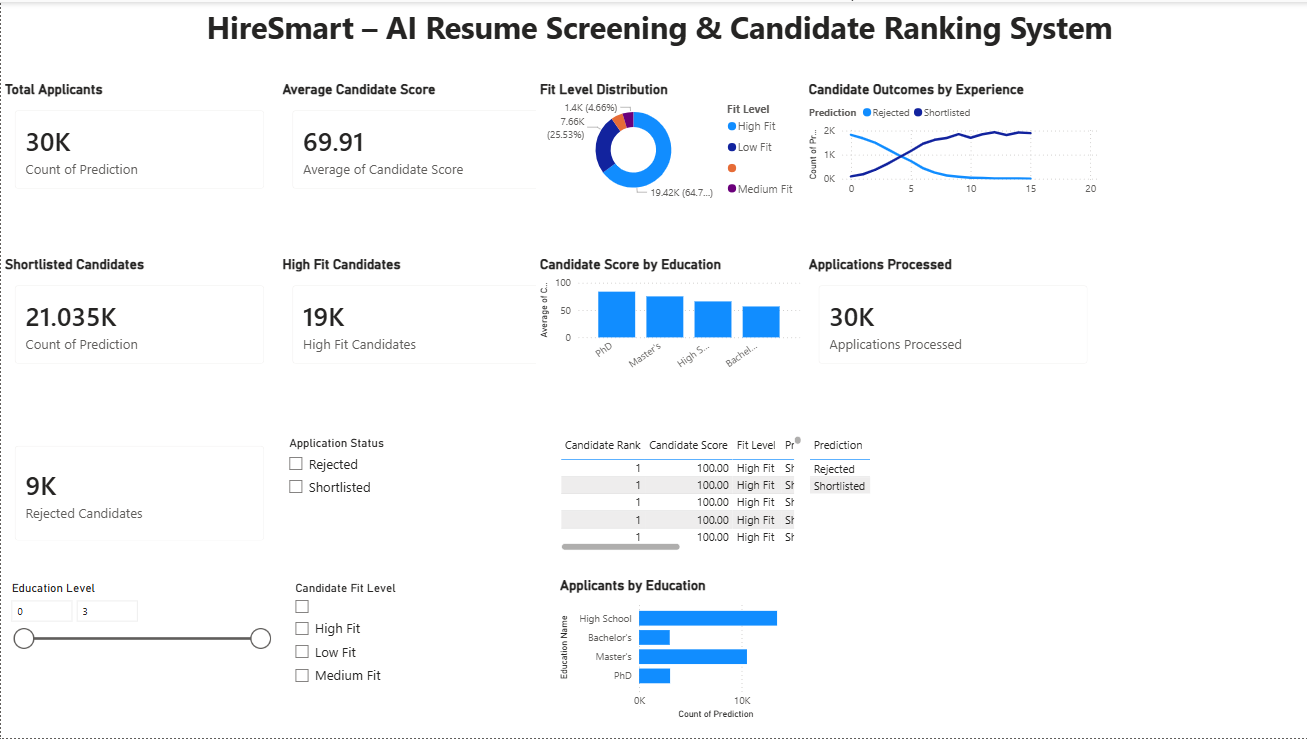

Layout of this report page (visuals, bound fields, positions):
{"tool":"powerbi","page":{"name":"Page 1","canvas":[1600,900],"ordinal":0},"visuals":[{"type":"textbox","box":[11.1,0,1588.9,63],"z":0},{"type":"cardVisual","title":"Total Applicants","fields":{"Data":["CountNonNull(hiresmart_final.Prediction)"]},"box":[0,96.4,339.3,150],"z":1000},{"type":"cardVisual","title":"Shortlisted Candidates","fields":{"Data":["CountNonNull(hiresmart_final.Prediction)"]},"box":[0,311,339,150],"z":2000},{"type":"cardVisual","title":"High Fit Candidates","fields":{"Data":["hiresmart_final.High Fit Candidates"]},"box":[339.3,310.7,339.3,150],"z":3000},{"type":"cardVisual","title":"Average Candidate Score","fields":{"Data":["Avg(hiresmart_final.Candidate Score)"]},"box":[339.3,96.4,339.3,150],"z":4000},{"type":"slicer","fields":{"Values":["hiresmart_final.education_level"]},"box":[0,703,339,150],"z":5000},{"type":"slicer","fields":{"Values":["hiresmart_final.Prediction"]},"box":[339,526,339,150],"z":6000},{"type":"slicer","fields":{"Values":["hiresmart_final.Fit Level"]},"box":[346.4,703.6,332.1,150],"z":7000},{"type":"donutChart","title":"Fit Level Distribution","fields":{"Category":["hiresmart_final.Fit Level"],"Y":["CountNonNull(hiresmart_final.Prediction)"]},"box":[653.6,96.4,328.6,150],"z":8000},{"type":"tableEx","fields":{"Values":["hiresmart_final.Candidate Rank","hiresmart_final.Candidate Score","hiresmart_final.Fit Level","hiresmart_final.Prediction","hiresmart_final.years_experience","hiresmart_final.education_level"]},"box":[678,526,305,150],"z":9000},{"type":"clusteredBarChart","title":"Applicants by Education","fields":{"Y":["CountNonNull(hiresmart_final.Prediction)"],"Category":["hiresmart_final.Education Name"]},"box":[679.2,703.2,304.8,179.1],"z":10000},{"type":"clusteredColumnChart","title":"Candidate Score by Education","fields":{"Y":["Avg(hiresmart_final.Candidate Score)"],"Category":["hiresmart_final.Education Name"]},"box":[653.6,310.7,328.6,150],"z":11000},{"type":"lineChart","title":"Candidate Outcomes by Experience","fields":{"Category":["hiresmart_final.years_experience"],"Y":["CountNonNull(hiresmart_final.Prediction)"],"Series":["hiresmart_final.Prediction"]},"box":[982.1,96.4,364.3,150],"z":12000},{"type":"cardVisual","fields":{"Data":["hiresmart_final.Rejected Candidates"]},"box":[0,526,339,150],"z":13000},{"type":"cardVisual","title":"Applications Processed","fields":{"Data":["hiresmart_final.Test Count"]},"box":[983,311,363,150],"z":14000},{"type":"tableEx","fields":{"Values":["hiresmart_final.Prediction"]},"box":[983,526,363,150],"z":15000},{"type":"textbox","box":[1346,96,254,150],"z":15001}]}

Visuals, with their boxes in screenshot pixels (x1, y1, x2, y2), scaled from the page's 1600x900 canvas onto the 1307x739 screenshot:
textbox: <bbox>9, 0, 1306, 52</bbox>
"Total Applicants" cardVisual: <bbox>0, 79, 277, 202</bbox>
"Shortlisted Candidates" cardVisual: <bbox>0, 255, 277, 379</bbox>
"High Fit Candidates" cardVisual: <bbox>277, 255, 554, 378</bbox>
"Average Candidate Score" cardVisual: <bbox>277, 79, 554, 202</bbox>
slicer - hiresmart_final.education_level: <bbox>0, 577, 277, 700</bbox>
slicer - hiresmart_final.Prediction: <bbox>277, 432, 554, 555</bbox>
slicer - hiresmart_final.Fit Level: <bbox>283, 578, 554, 701</bbox>
"Fit Level Distribution" donutChart: <bbox>534, 79, 802, 202</bbox>
tableEx - hiresmart_final.Candidate Rank x hiresmart_final.Candidate Score: <bbox>554, 432, 803, 555</bbox>
"Applicants by Education" clusteredBarChart: <bbox>555, 577, 804, 724</bbox>
"Candidate Score by Education" clusteredColumnChart: <bbox>534, 255, 802, 378</bbox>
"Candidate Outcomes by Experience" lineChart: <bbox>802, 79, 1100, 202</bbox>
cardVisual - hiresmart_final.Rejected Candidates: <bbox>0, 432, 277, 555</bbox>
"Applications Processed" cardVisual: <bbox>803, 255, 1100, 379</bbox>
tableEx - hiresmart_final.Prediction: <bbox>803, 432, 1100, 555</bbox>
textbox: <bbox>1100, 79, 1306, 202</bbox>
